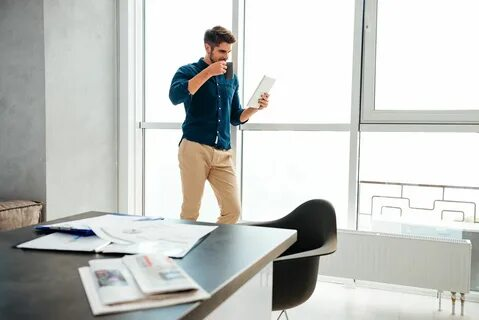awake: (168, 25, 263, 224)
